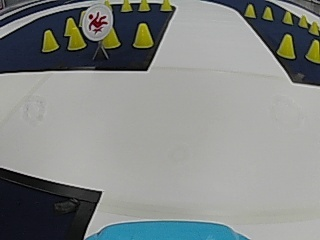cone: (133, 22, 154, 49), (276, 33, 296, 59), (66, 25, 85, 50), (41, 29, 57, 52), (305, 38, 319, 64), (103, 29, 121, 48), (244, 3, 256, 18), (262, 5, 273, 21), (282, 10, 293, 25), (120, 0, 132, 12), (138, 0, 150, 12), (299, 13, 308, 28), (309, 20, 318, 35), (160, 0, 171, 11)
tumble: (83, 6, 111, 37)
